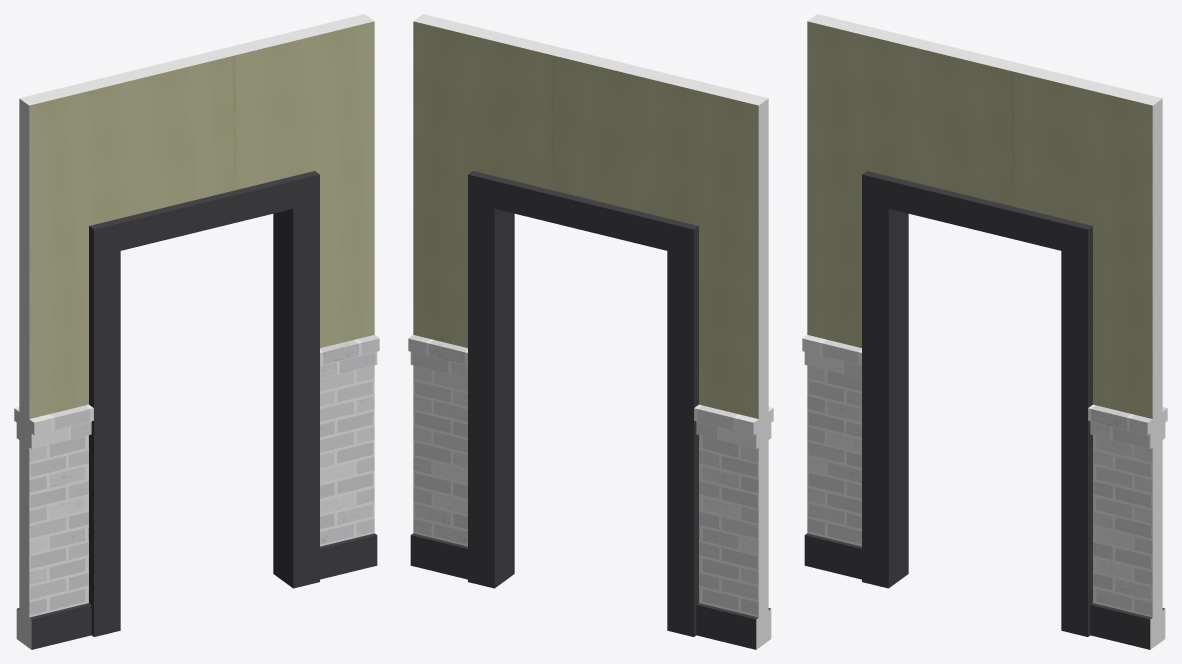
The model's file is SM_Buildings_WallDoor_2x3_01_TileBack.fbx.
3 views of the same model, side by side, from view 1: azimuth 30°, elevation 25°; view 2: azimuth 150°, elevation 25°; view 3: azimuth 330°, elevation 25° (orthographic).
Parts seen in each view (by area): view 1: SM_Buildings_WallDoor_2x3_01_TileBack; view 2: SM_Buildings_WallDoor_2x3_01_TileBack; view 3: SM_Buildings_WallDoor_2x3_01_TileBack.
Part boxes in pixels (box(x1,y1,x2,y2)): SM_Buildings_WallDoor_2x3_01_TileBack: box(14, 14, 379, 649); SM_Buildings_WallDoor_2x3_01_TileBack: box(408, 14, 773, 649); SM_Buildings_WallDoor_2x3_01_TileBack: box(802, 14, 1167, 649).
Bounding box in the file's own units: 200 × 300 × 20.
1 material, 1 textured.
